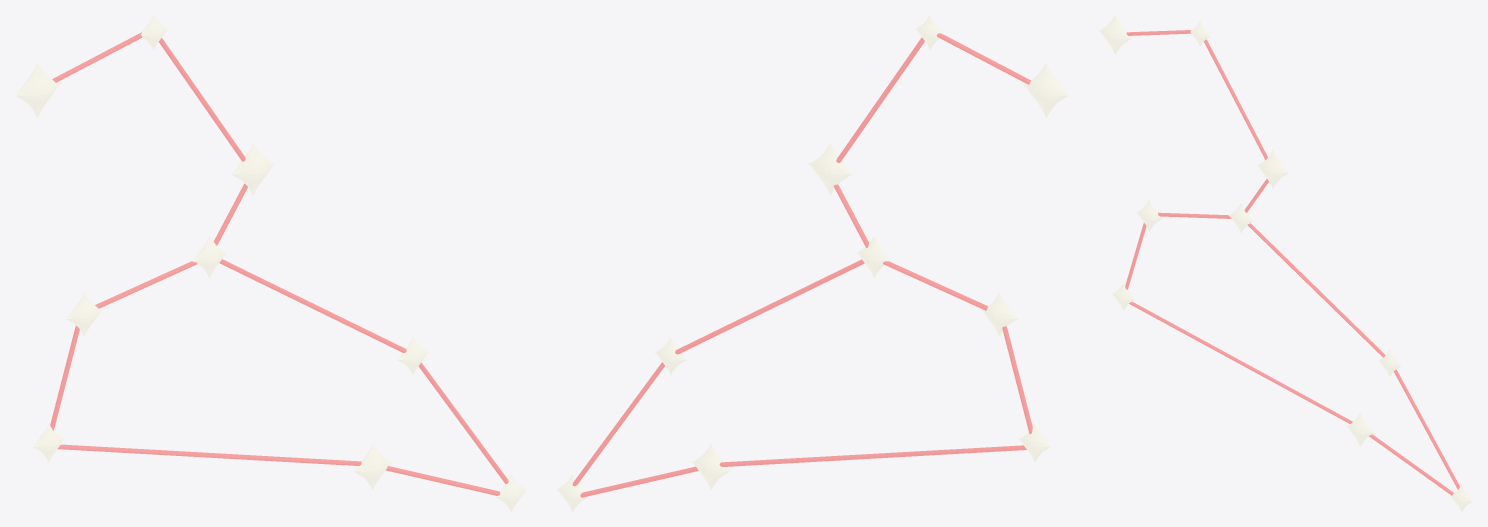
The model's file is sozvezdiya-lev.glb.
The picture shows the model from 3 angles, left to right: view 1: azimuth 30°, elevation 25°; view 2: azimuth 150°, elevation 25°; view 3: azimuth 330°, elevation 25°; orthographic projection. The views are drawn at different scales.
Visible parts, largest first — view 1: Cylinder, Sphere.008, Sphere.002, Sphere.006, Sphere.004, Sphere.003, Sphere.005; view 2: Cylinder, Sphere.008, Sphere.002, Sphere.006, Sphere.004, Sphere.003; view 3: Cylinder, Sphere.008, Sphere.002, Sphere.006.
Boxes of the visible parts, box(x1,y1,x2,y2) form: Cylinder: box(50, 32, 508, 495); Sphere.008: box(14, 62, 60, 117); Sphere.002: box(231, 142, 275, 195); Sphere.006: box(353, 443, 391, 490); Sphere.004: box(66, 292, 102, 336); Sphere.003: box(192, 235, 227, 278); Sphere.005: box(33, 423, 64, 462); Cylinder: box(572, 33, 1032, 497); Sphere.008: box(1023, 62, 1069, 117); Sphere.002: box(808, 142, 852, 195); Sphere.006: box(692, 443, 730, 490); Sphere.004: box(981, 292, 1017, 336); Sphere.003: box(856, 235, 891, 278); Cylinder: box(1125, 30, 1459, 495); Sphere.008: box(1098, 14, 1131, 54); Sphere.002: box(1257, 150, 1289, 188); Sphere.006: box(1346, 412, 1374, 446).
Size of the model in its own units: 0.1337 by 0.1459 by 0.00546.
